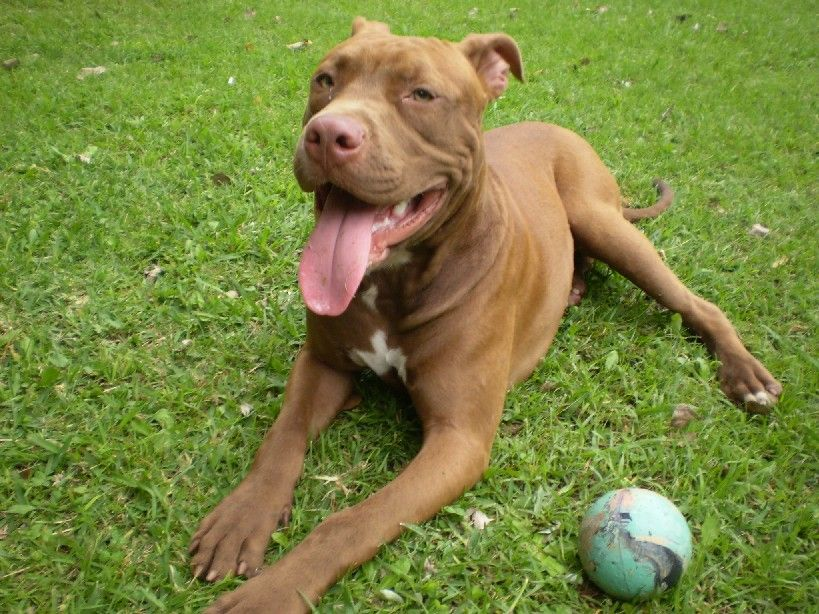am_pit_bull_terrier: (188, 16, 783, 614)
